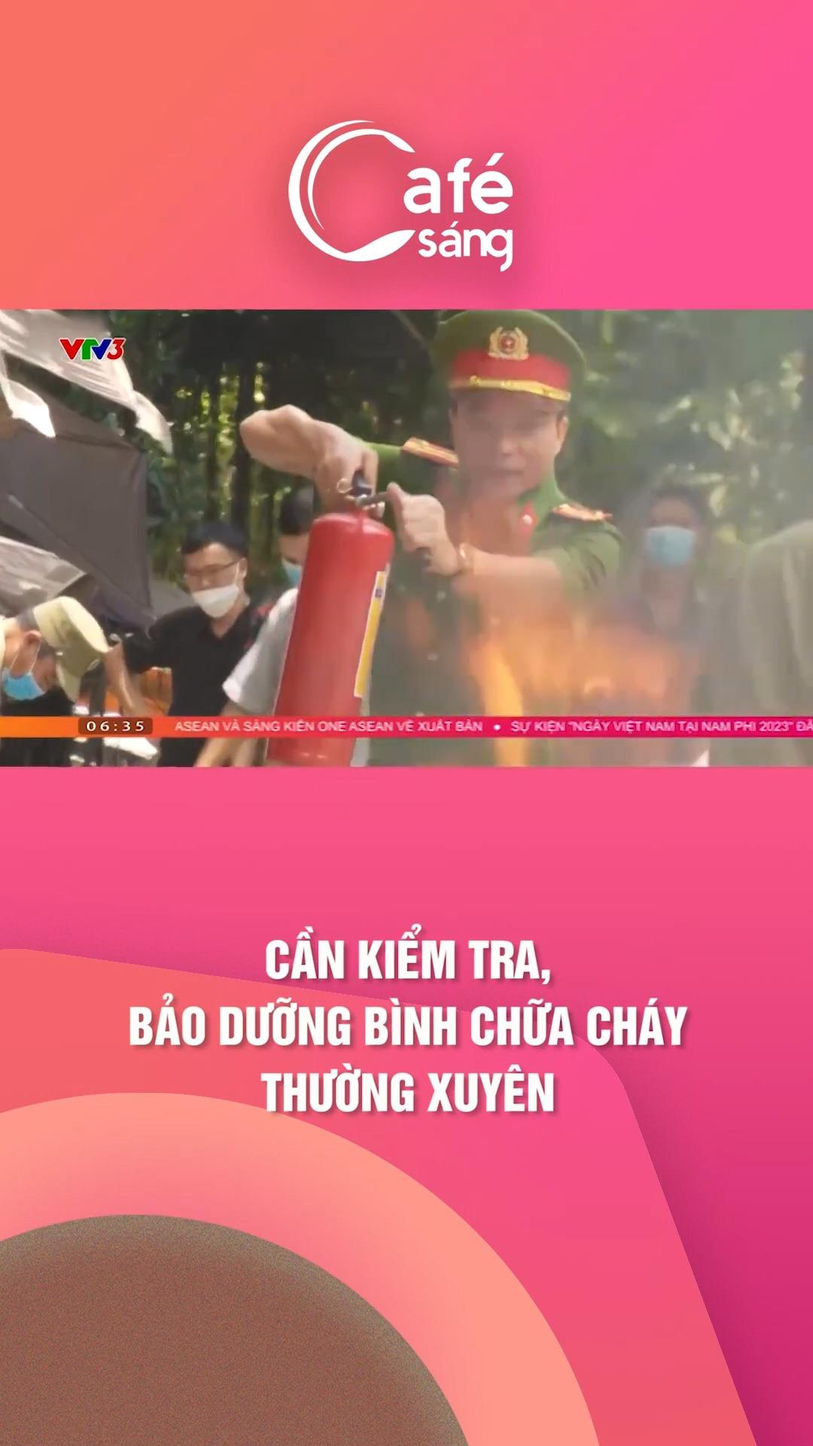FireExtinguisher: (244, 479, 400, 783)
